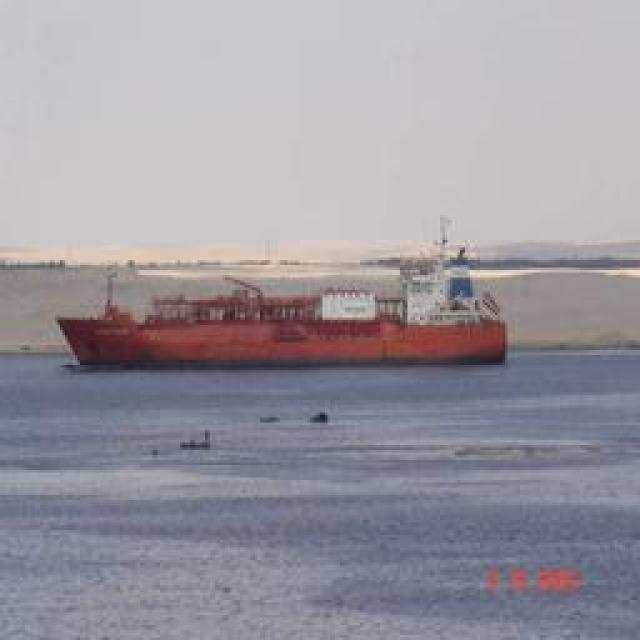CIV_Ship: (69, 261, 509, 371)
